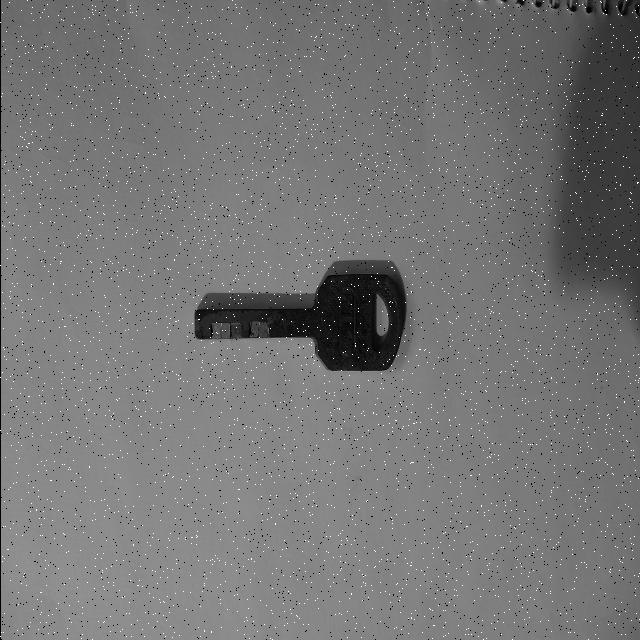key: (193, 274, 404, 370)
